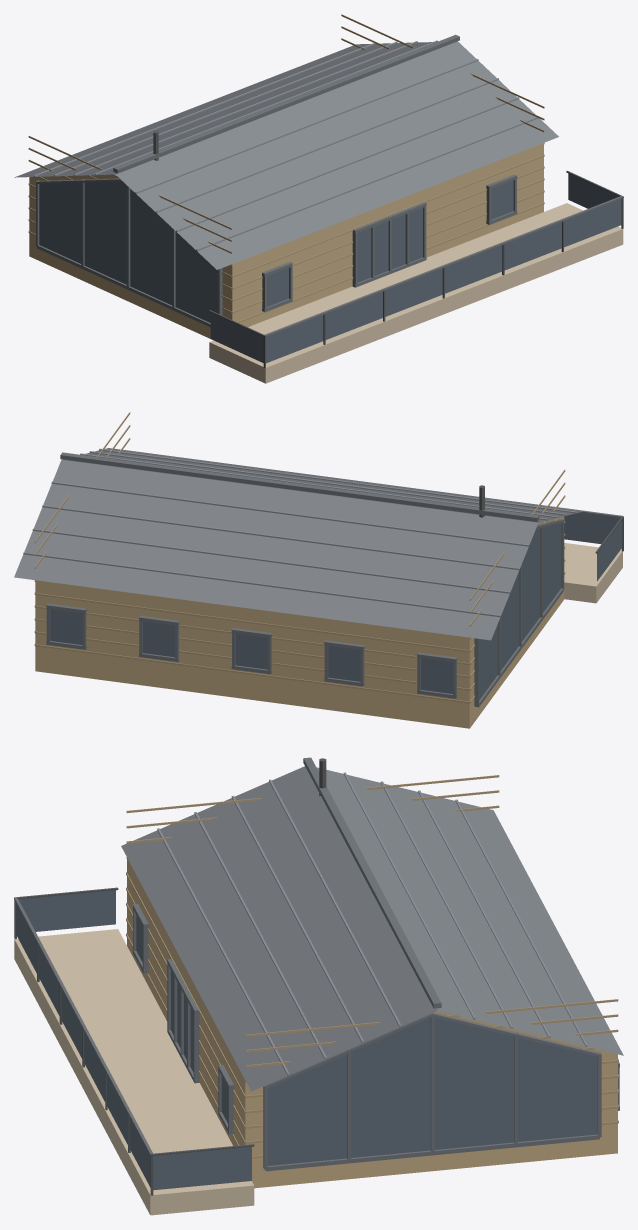
3 views of the same model, one above another, from view 1: azimuth 30°, elevation 25°; view 2: azimuth 150°, elevation 25°; view 3: azimuth 270°, elevation 25° (orthographic). The views are drawn at different scales.
Parts seen in each view (by area): view 1: slate, door_wood, window_glass_015, larch, slate_dk, slate_lt, door_wood_p, window_glass_003, window_glass_004, window_glass_001, window_glass_005, window_glass_006 (+10 smaller); view 2: slate, door_wood, slate_dk, slate_lt, door_wood_p, window_glass_015, larch, window_glass_001, window_glass_017, window_glass_019, window_glass_020, window_glass_018 (+2 smaller); view 3: slate, window_glass_016, larch, door_wood, slate_dk, slate_lt, door_wood_p, window_glass_008, window_glass_007, pipe, window_glass_006, window_glass_002 (+4 smaller).
Boxes of the visible parts, <box> form: slate: <box>14,41,558,269</box>; door_wood: <box>29,143,543,338</box>; window_glass_015: <box>39,181,217,322</box>; larch: <box>209,203,623,383</box>; slate_dk: <box>36,34,623,336</box>; slate_lt: <box>33,40,538,251</box>; door_wood_p: <box>28,14,544,322</box>; window_glass_003: <box>385,268,442,316</box>; window_glass_004: <box>445,245,502,293</box>; window_glass_001: <box>266,315,323,363</box>; window_glass_005: <box>504,222,561,270</box>; window_glass_006: <box>564,199,621,247</box>; slate: <box>14,448,584,640</box>; door_wood: <box>35,516,564,728</box>; slate_dk: <box>46,450,622,707</box>; slate_lt: <box>23,448,576,617</box>; door_wood_p: <box>34,412,565,703</box>; window_glass_015: <box>479,523,561,699</box>; larch: <box>564,543,622,603</box>; window_glass_001: <box>564,513,620,543</box>; window_glass_017: <box>50,609,82,644</box>; window_glass_019: <box>235,633,267,669</box>; window_glass_020: <box>328,646,360,681</box>; window_glass_018: <box>143,621,174,657</box>; slate: <box>121,766,623,1091</box>; window_glass_016: <box>268,1017,597,1165</box>; larch: <box>14,929,254,1215</box>; door_wood: <box>127,858,617,1188</box>; slate_dk: <box>14,757,619,1171</box>; slate_lt: <box>157,772,587,1075</box>; door_wood_p: <box>126,775,618,1158</box>; window_glass_008: <box>153,1147,251,1190</box>; window_glass_007: <box>19,890,115,931</box>; pipe: <box>14,758,326,1195</box>; window_glass_006: <box>129,1117,150,1187</box>; window_glass_002: <box>38,946,59,1015</box>.
Size of the model in its own units: 15.86 by 5.12 by 13.75.
